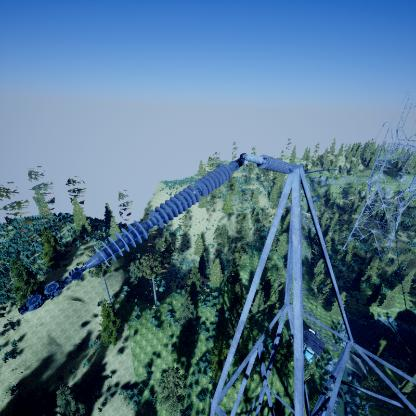insulator: (92, 163, 234, 267), (254, 151, 306, 178)
